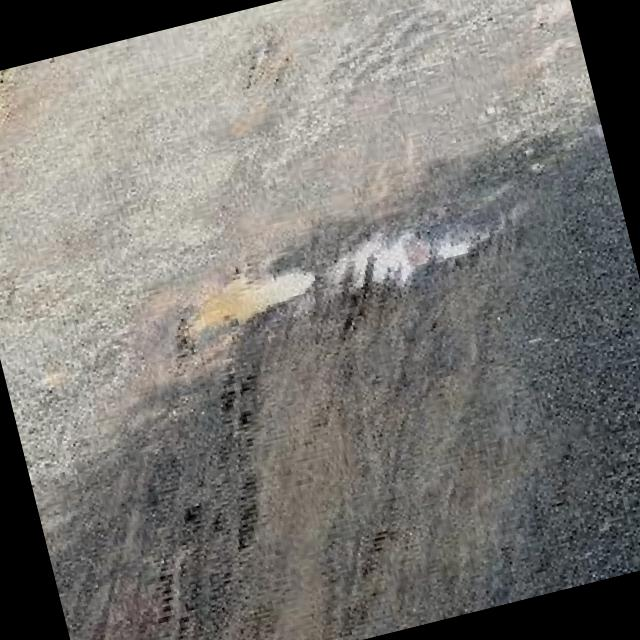stagnation: (152, 180, 528, 358)
